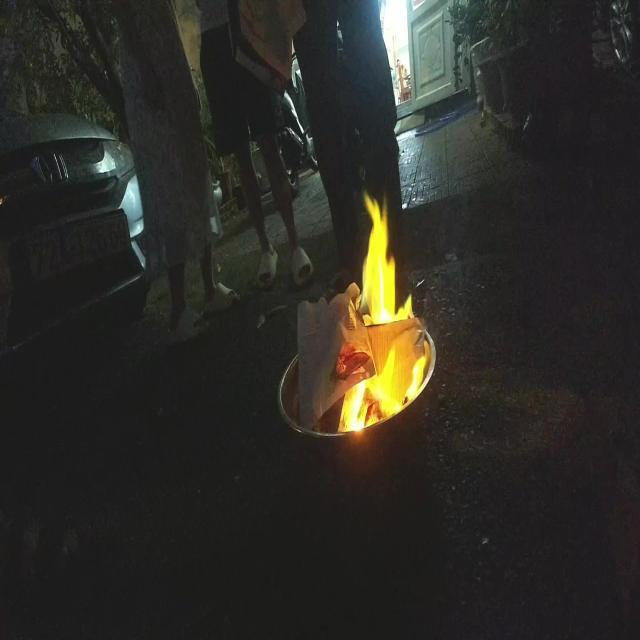Fire: (340, 184, 426, 433)
